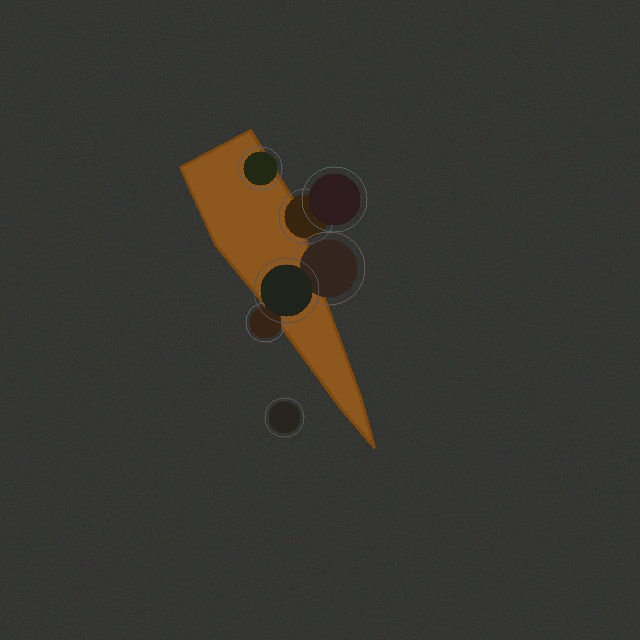Rotten_Carrot: (172, 122, 382, 455)
